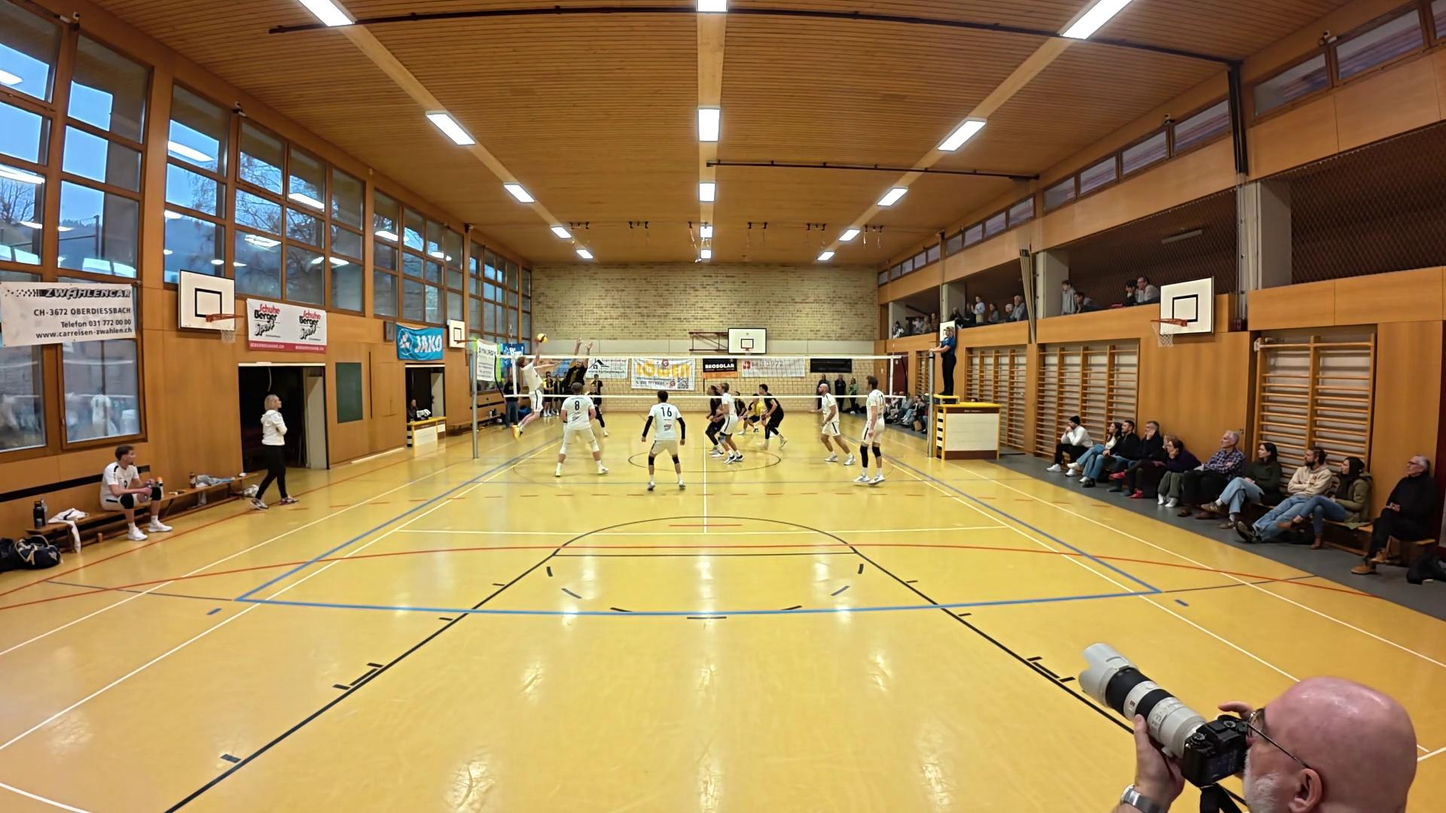Attack: (508, 336, 555, 440)
Block: (557, 337, 596, 422)
Player: (554, 383, 606, 477), (640, 388, 686, 492), (853, 374, 886, 486), (816, 381, 850, 464), (710, 385, 743, 464), (756, 385, 786, 451), (703, 379, 723, 438), (590, 378, 609, 437)
ball: (533, 331, 548, 344)
